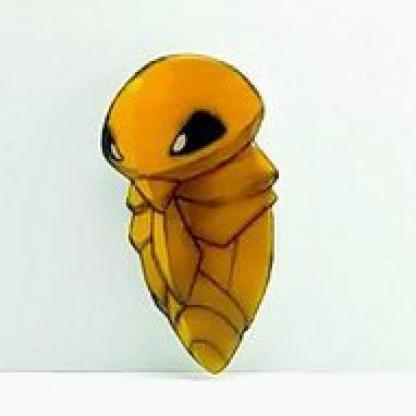Kakuna: (103, 42, 287, 393)
